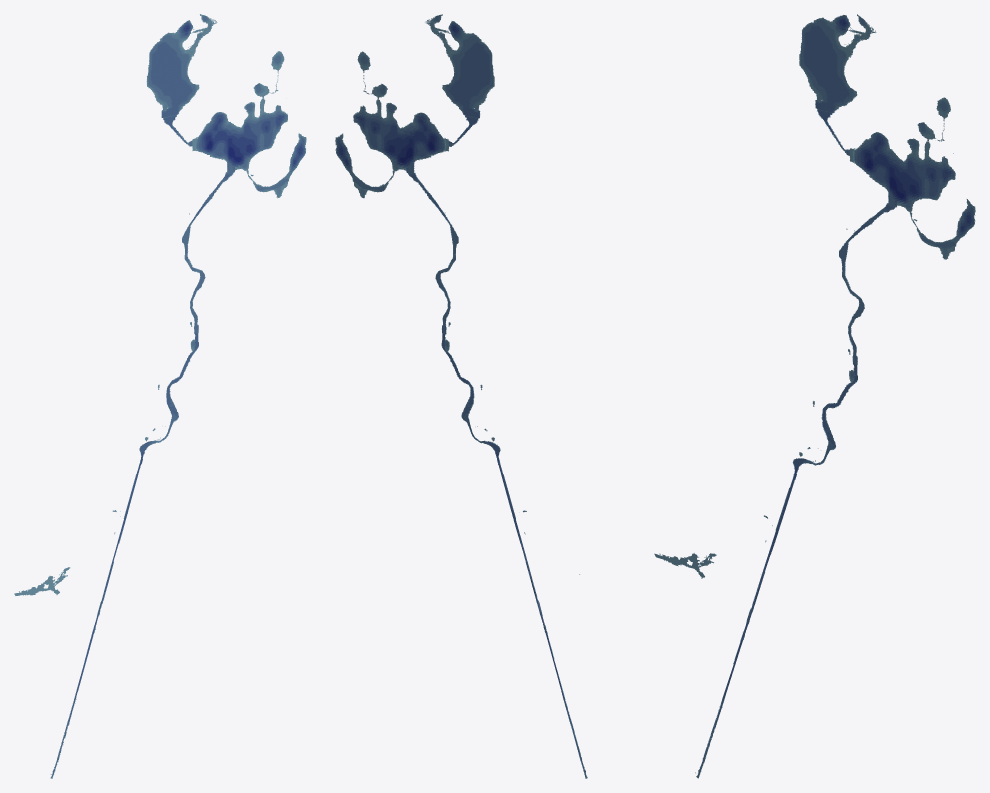
File: triangle_mesh.glb
3 views of the same model, side by side, from view 1: azimuth 30°, elevation 25°; view 2: azimuth 150°, elevation 25°; view 3: azimuth 330°, elevation 25° (orthographic). The views are drawn at different scales.
Parts seen in each view (by area): view 1: world; view 2: world; view 3: world.
Part boxes in pixels (bbox=[...]): world: bbox=[14, 14, 306, 778]; world: bbox=[335, 14, 587, 778]; world: bbox=[654, 14, 975, 778].
Size of the model in its own units: 1147 by 2739 by 13.99.
